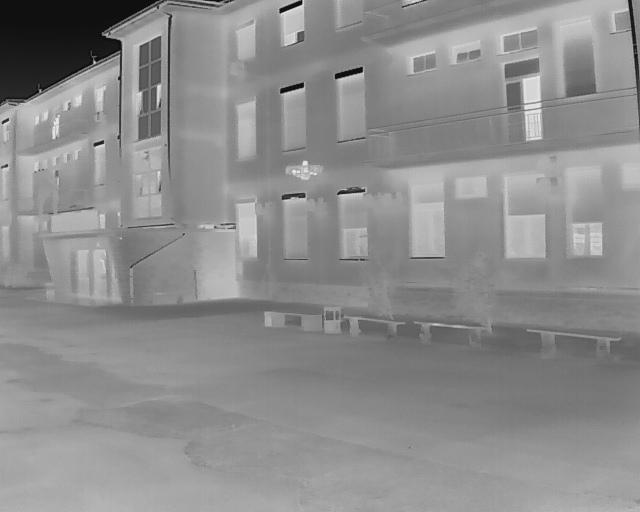drone: (286, 160, 330, 192)
